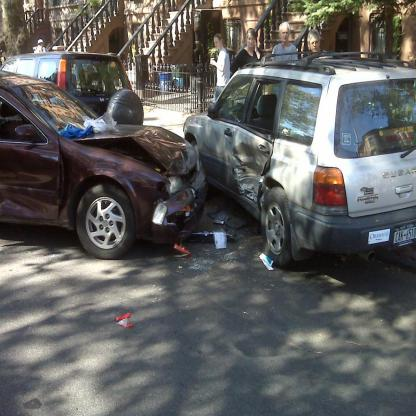face: (310, 38, 320, 53), (282, 29, 289, 42), (248, 36, 255, 48), (214, 39, 221, 50), (40, 44, 45, 51)
